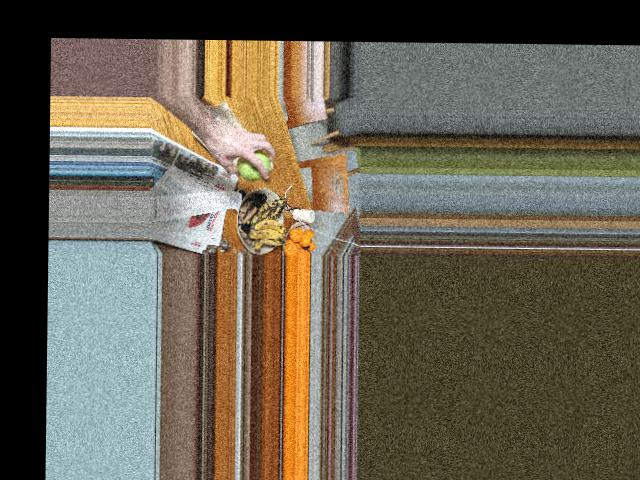apple: (235, 148, 271, 179)
